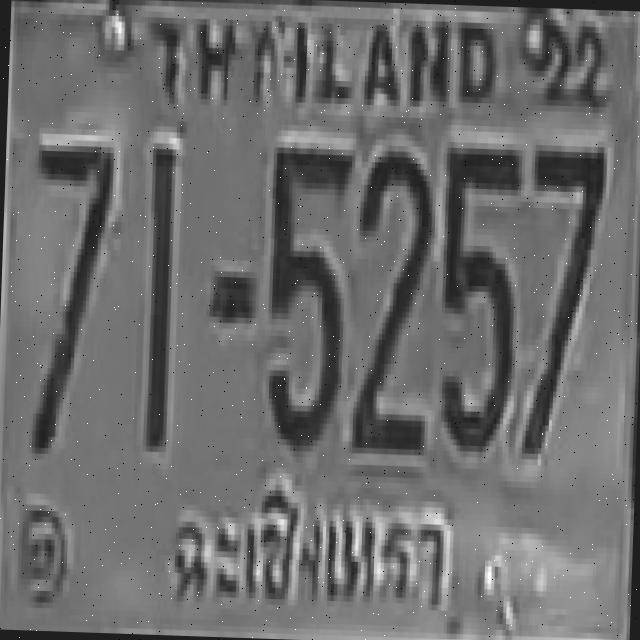1: (140, 137, 174, 446)
2: (350, 147, 432, 452)
5: (262, 141, 351, 447), (433, 142, 519, 446)
7: (24, 138, 110, 450), (521, 142, 604, 452)
Chachoengsao: (148, 462, 458, 634)
